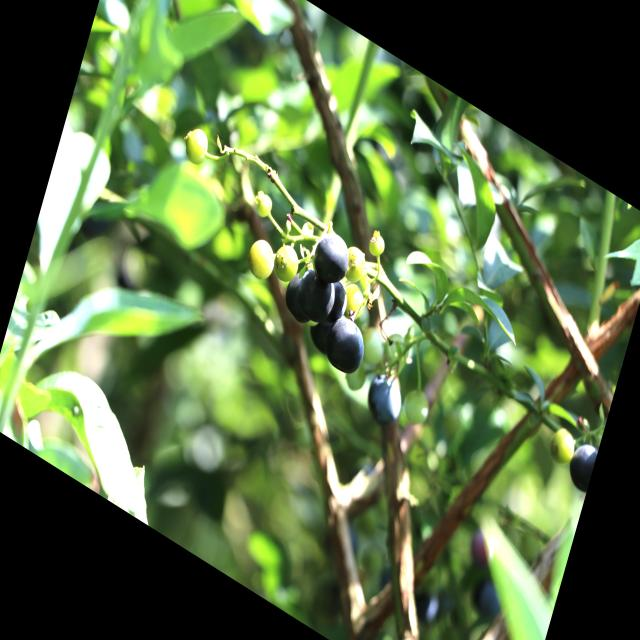blueberry: (322, 308, 373, 382), (360, 362, 410, 436), (309, 224, 353, 290), (294, 262, 338, 327), (278, 266, 318, 326), (564, 436, 598, 495)
blueberry-unripe: (243, 230, 278, 284), (180, 120, 214, 170), (270, 237, 303, 288), (340, 242, 370, 286), (338, 275, 366, 321), (250, 187, 276, 225), (364, 227, 388, 261)
